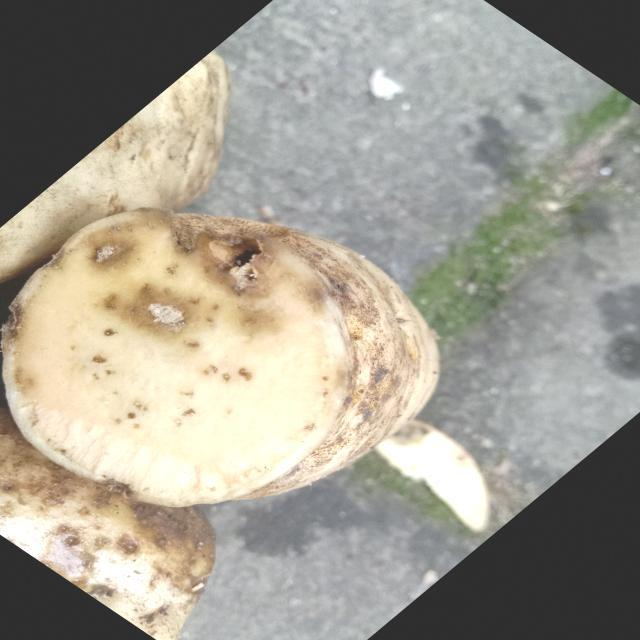Sick Sweet Potato_Tuber Rot: (3, 209, 352, 506)
